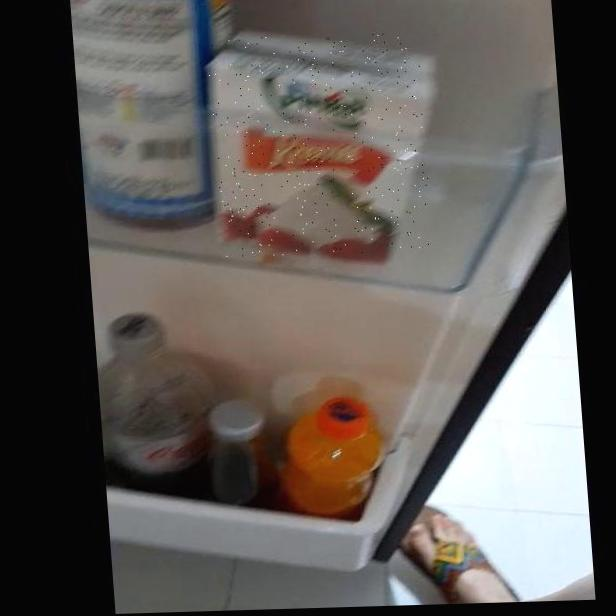cream: (206, 32, 433, 257)
